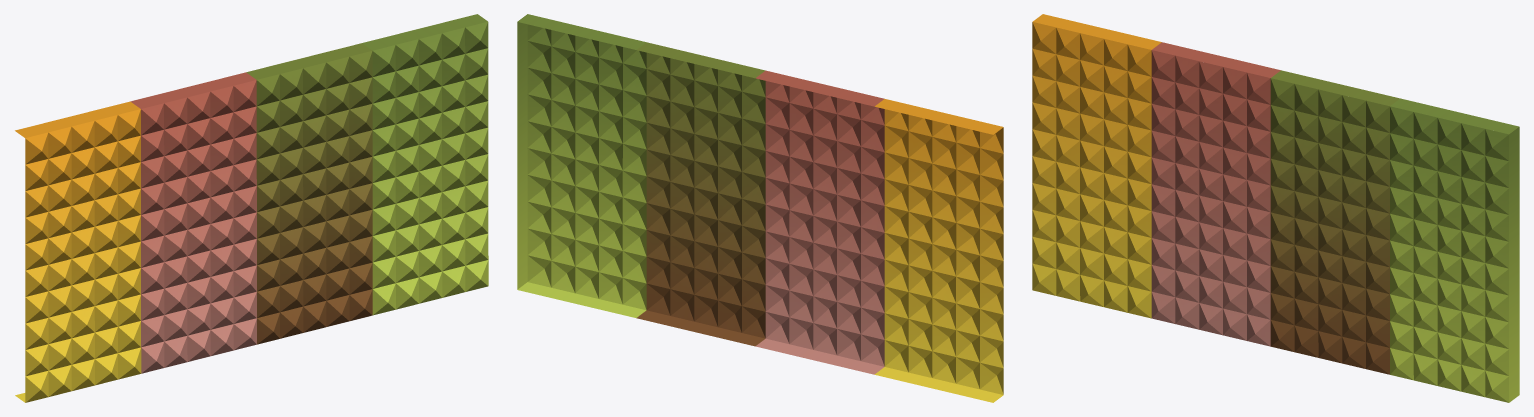
The model's file is WallDecor3.fbx.
3 renders of one model, left to right at view 1: azimuth 30°, elevation 25°; view 2: azimuth 150°, elevation 25°; view 3: azimuth 330°, elevation 25°, orthographic.
Parts seen in each view (by area): view 1: WallDecor3; view 2: WallDecor3; view 3: WallDecor3.
Part boxes in pixels (box(x1,y1,x2,y2)): WallDecor3: box(15, 14, 488, 402); WallDecor3: box(517, 14, 1003, 402); WallDecor3: box(1032, 14, 1519, 402).
Bounding box in the file's own units: 73.44 × 39.82 × 4.99.
